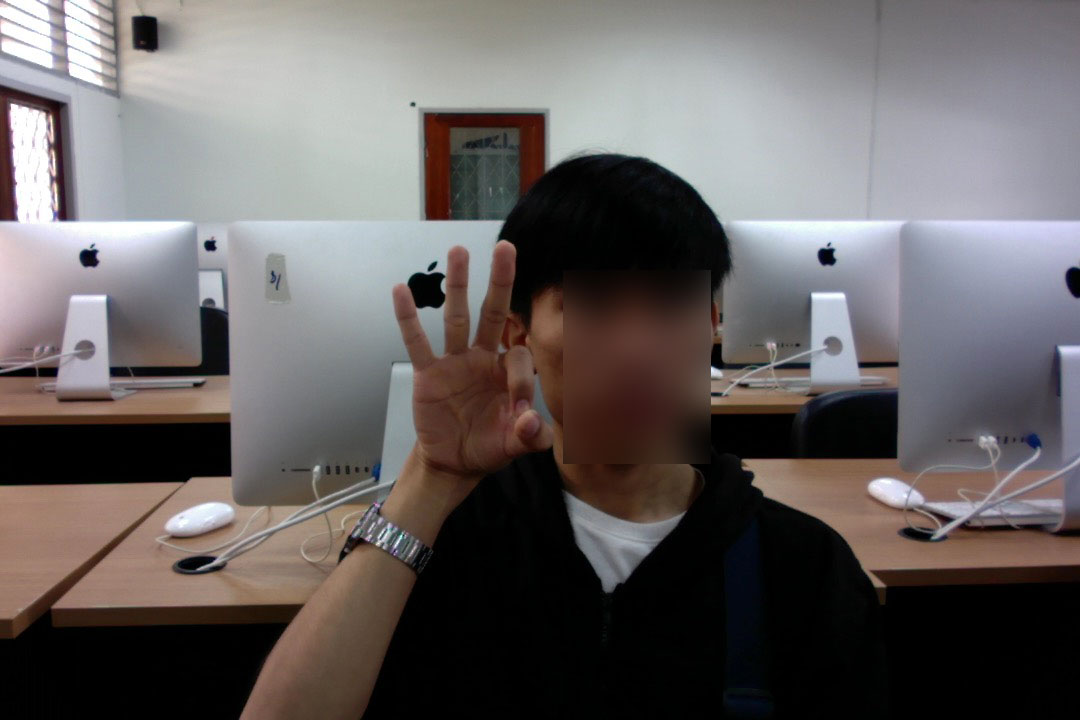for: (360, 218, 567, 525)
